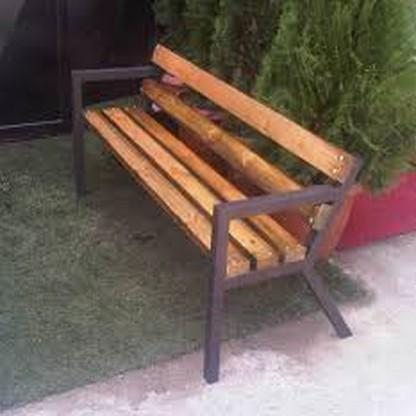obstacle: (42, 33, 384, 392)
